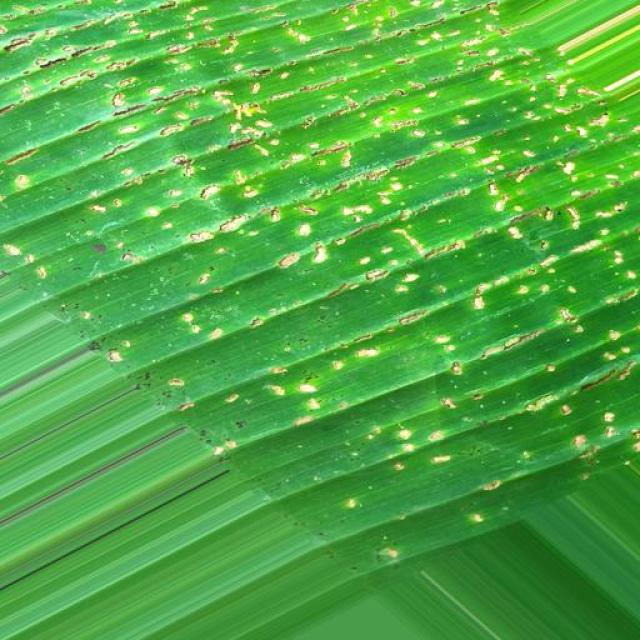Black_rot: (0, 3, 640, 556)
